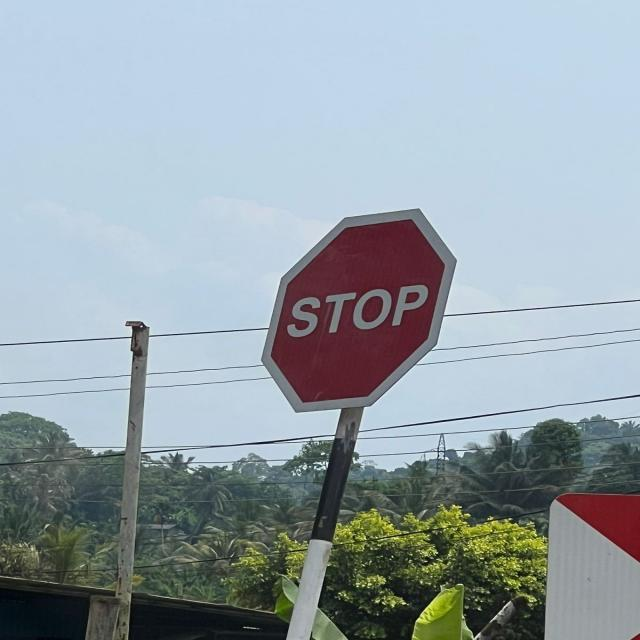stop: (256, 206, 461, 416)
